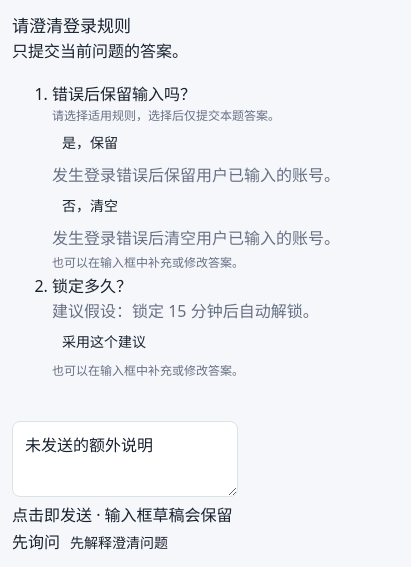
it: choices sit with their question and send the full answer without touching draft text
expect the text "发生登录错误后清空用户已输入的账号。" is shown: met, box [52,227,340,249]
Click the button "否，清空" at (90, 206), box [52,189,128,224]
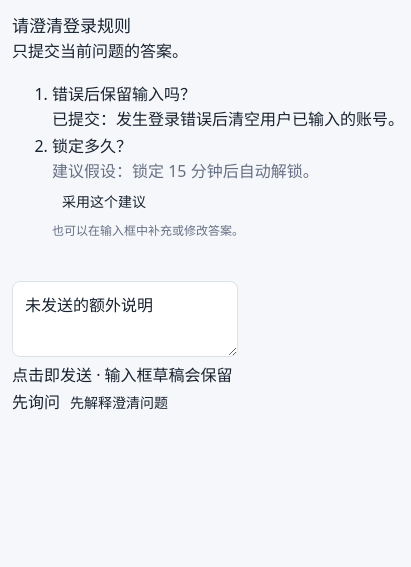
expect the button with aria-label "采用 Q2 建议：锁定 15 分钟后自动解锁。" is shown: met, box [52,185,156,220]
expect the button "是，保留" is gone: met
